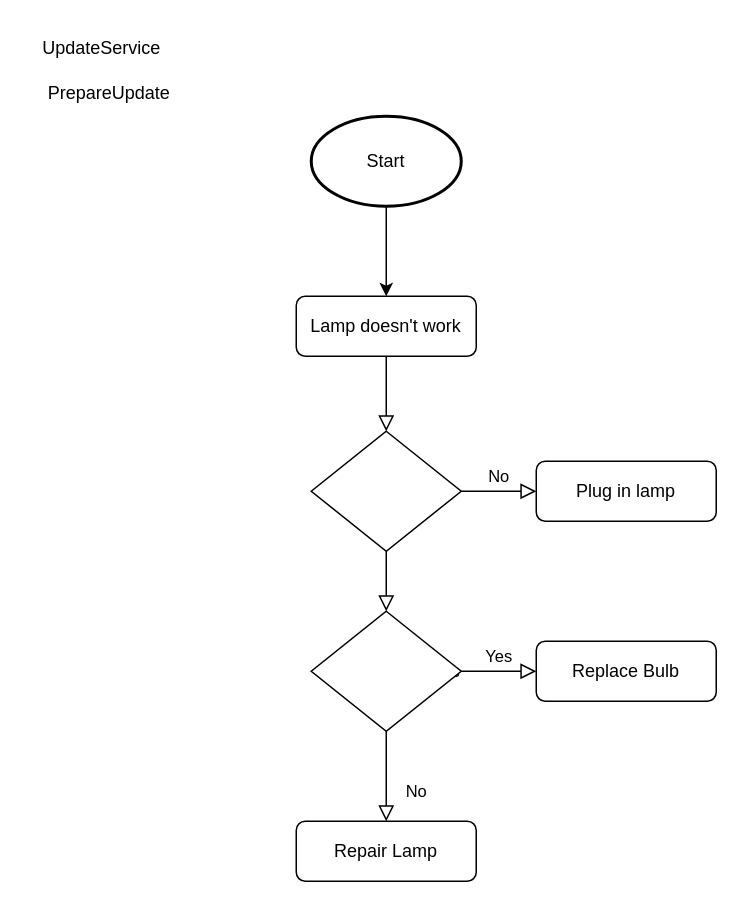
Some shapes in this 743 by 908 pixel diagram are drawn without their labels. Here are the shapes that lost their labels. From the top down, the centre of each, then its label:
(x=385, y=490): Lamp plugged in?
(x=385, y=670): Bulb burned out?
